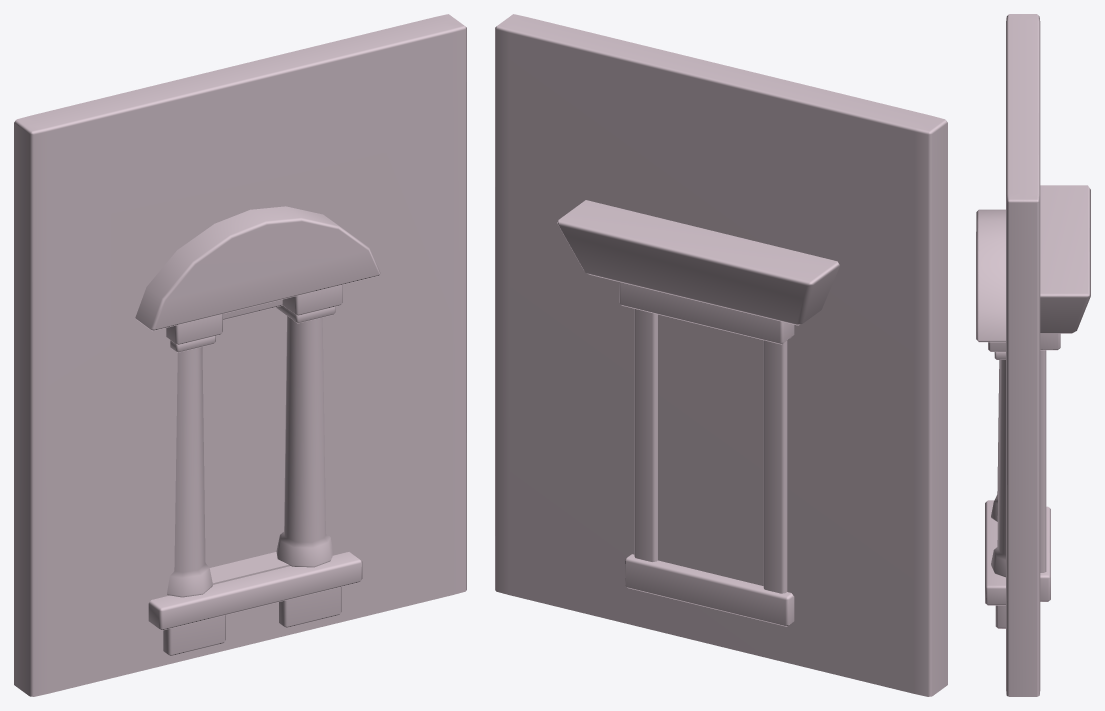
The model's file is mod_sc_roma_001_ar02_wall_003.fbx.
3 renders of one model, left to right at view 1: azimuth 30°, elevation 25°; view 2: azimuth 150°, elevation 25°; view 3: azimuth 270°, elevation 25°, orthographic. The views are drawn at different scales.
Parts seen in each view (by area): view 1: mod_sc_roma_001_ar02_wall_003; view 2: mod_sc_roma_001_ar02_wall_003; view 3: mod_sc_roma_001_ar02_wall_003.
Boxes of the visible parts, box(x1,y1,x2,y2) form: mod_sc_roma_001_ar02_wall_003: box(14, 14, 466, 696); mod_sc_roma_001_ar02_wall_003: box(495, 14, 947, 696); mod_sc_roma_001_ar02_wall_003: box(976, 14, 1090, 696).
Size of the model in its own units: 648 by 800 by 168.
